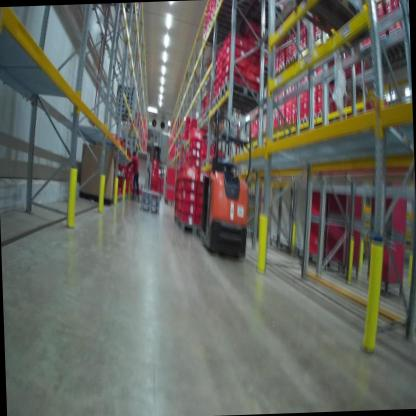pallet: (220, 80, 257, 108), (175, 214, 205, 240), (212, 89, 242, 114), (138, 187, 160, 203), (259, 61, 277, 80), (142, 205, 161, 220), (141, 194, 160, 207), (116, 108, 134, 118), (115, 113, 133, 122), (114, 102, 132, 110), (116, 98, 134, 106), (117, 86, 137, 92), (284, 56, 293, 69), (116, 94, 135, 100), (292, 50, 300, 64), (117, 90, 135, 96), (277, 62, 286, 74), (307, 113, 317, 123), (301, 117, 309, 126), (115, 195, 122, 203)
pallet_truck: (177, 103, 261, 272)
